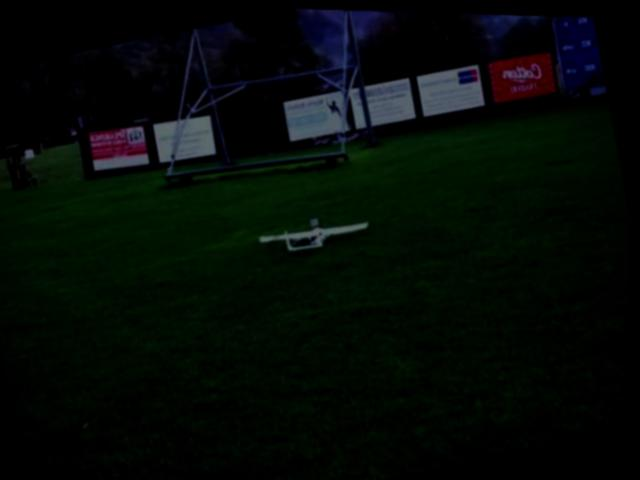uav: (249, 189, 387, 272)
